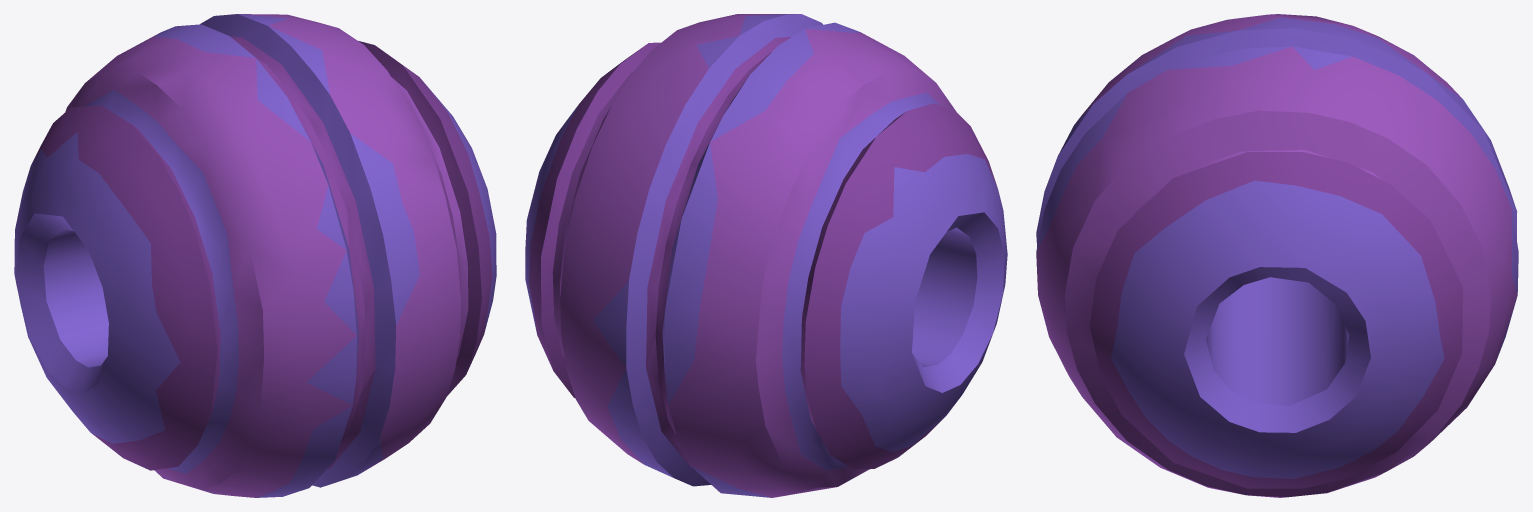
The model's file is Planet_8-transformed.glb.
3 views of the same model, side by side, from view 1: azimuth 30°, elevation 25°; view 2: azimuth 150°, elevation 25°; view 3: azimuth 270°, elevation 25° (orthographic).
Parts seen in each view (by area): view 1: Planet_8; view 2: Planet_8; view 3: Planet_8.
Part boxes in pixels (<box>): Planet_8: <box>14,14,496,497</box>; Planet_8: <box>525,14,1007,497</box>; Planet_8: <box>1036,14,1518,497</box>.
Size of the model in its own units: 3.45 by 3.75 by 3.75.
Materials: 1 (1 with a texture image).
